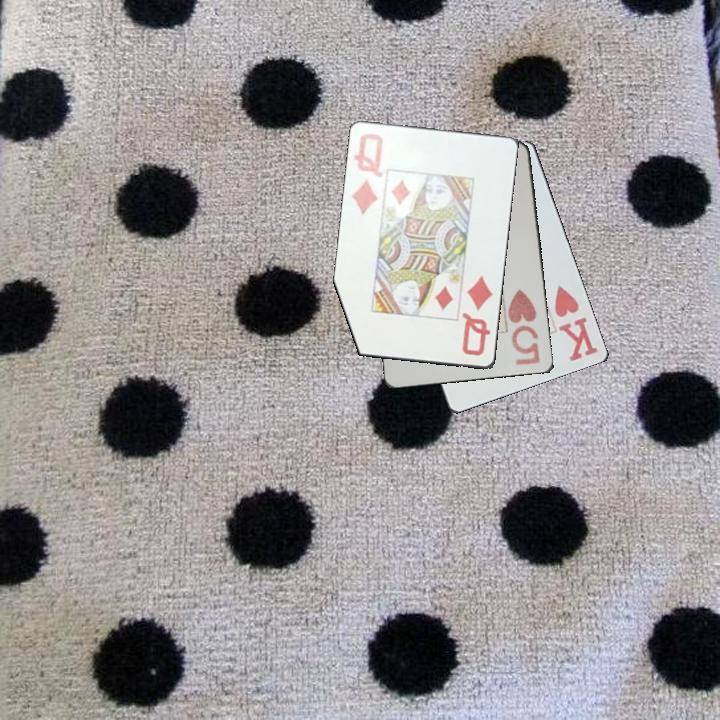5h: (505, 286, 543, 368)
Kh: (551, 281, 601, 365)
Qd: (348, 130, 386, 217), (459, 273, 495, 359)
